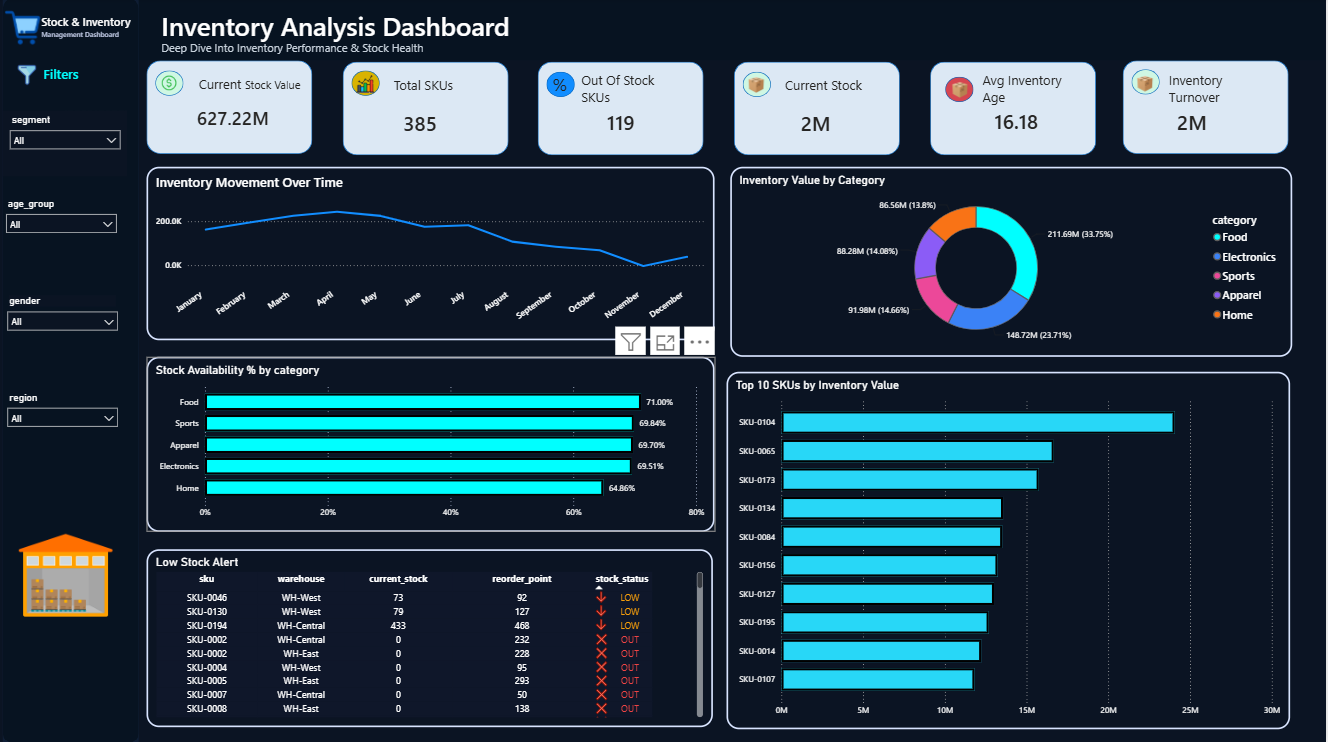

Layout of this report page (visuals, bound fields, positions):
{"tool":"powerbi","page":{"name":"Inventory analysis Dashboard","canvas":[1920,1080],"ordinal":1},"visuals":[{"type":"group","id":"g1","title":"Group 2","box":[195,0,1725,94],"z":0},{"type":"shape","box":[214.3,90.9,240,135.3],"z":0,"group":"g2"},{"type":"shape","box":[1627.4,90.9,240,135.3],"z":0,"group":"g6"},{"type":"shape","box":[497.5,92,240,135.3],"z":0,"group":"g3"},{"type":"shape","box":[780.5,92,240,135.3],"z":0,"group":"g4"},{"type":"shape","box":[1063.5,92,240,135.3],"z":0,"group":"g7"},{"type":"shape","box":[1348.3,93.1,240,135.3],"z":0,"group":"g5"},{"type":"shape","box":[5.3,0,196.8,1080],"z":1000},{"type":"shape","box":[195,0,1725,90],"z":1000,"group":"g1"},{"type":"actionButton","box":[1,11.2,65,65.8],"z":2000},{"type":"textbox","box":[56.5,18.1,155,45],"z":3000},{"type":"textbox","box":[55.8,35,139.2,55],"z":4000},{"type":"slicer","fields":{"Values":["dim_customers.age_group"]},"box":[0,285,180,96.2],"z":5000},{"type":"textbox","box":[229.5,10,543.6,71.8],"z":6000,"group":"g1"},{"type":"slicer","fields":{"Values":["dim_customers.segment"]},"box":[5,162.5,180,95],"z":6000},{"type":"textbox","box":[230,56,420,38],"z":7000,"group":"g1"},{"type":"slicer","fields":{"Values":["dim_customers.gender"]},"box":[1.2,425,180,95],"z":7000},{"type":"slicer","fields":{"Values":["dim_customers.region"]},"box":[1.2,565,180,95],"z":8000},{"type":"textbox","box":[41.2,92.5,103.8,45],"z":9000},{"type":"shape","box":[1639.7,104,40.9,36.6],"z":9000,"group":"g6"},{"type":"shape","box":[226.6,105.1,40.9,36.6],"z":9000,"group":"g2"},{"type":"shape","box":[509.8,105.1,40.9,36.6],"z":9000,"group":"g3"},{"type":"shape","box":[792.8,106.2,40.9,36.6],"z":9000,"group":"g4"},{"type":"shape","box":[1075.8,106.2,40.9,36.6],"z":9000,"group":"g7"},{"type":"shape","box":[1370.9,114.6,40.9,36.6],"z":9000,"group":"g5"},{"type":"image","box":[0,87.5,81.2,48.8],"z":10000},{"type":"image","box":[1647.9,108.5,25.5,28.6],"z":10000,"group":"g6"},{"type":"image","box":[234.8,109.5,25.5,28.6],"z":10000,"group":"g2"},{"type":"image","box":[518,109.6,25.5,28.6],"z":10000,"group":"g3"},{"type":"image","box":[1084,110.6,25.5,28.6],"z":10000,"group":"g7"},{"type":"image","box":[1379.1,119.1,25.5,28.6],"z":10000,"group":"g5"},{"type":"textbox","box":[837.8,100.7,149.3,73.6],"z":11000,"group":"g4"},{"type":"textbox","box":[1419.2,101.6,149.3,80.1],"z":11000,"group":"g5"},{"type":"textbox","box":[1689.2,102,145,62.8],"z":11000,"group":"g6"},{"type":"textbox","box":[566.2,107.8,142.7,42],"z":11000,"group":"g3"},{"type":"textbox","box":[285.2,107.9,160,42.2],"z":11000,"group":"g2"},{"type":"textbox","box":[1132.2,108.8,142.7,42],"z":11000,"group":"g7"},{"type":"image","box":[14,748,164,176],"z":11000},{"type":"group","id":"g2","title":"Group 1","box":[214.3,90.9,240.2,136.3],"z":12000},{"type":"cardVisual","fields":{"Data":["Measures (2).Inventory Value"]},"box":[270,135.8,168.8,71.4],"z":12000,"group":"g2"},{"type":"cardVisual","fields":{"Data":["Measures (2).Current Stock"]},"box":[1142.4,137.5,151.5,82.2],"z":12000,"group":"g7"},{"type":"cardVisual","fields":{"Data":["Measures (2).Products Count"]},"box":[567.8,144,140.7,67.1],"z":12000,"group":"g3"},{"type":"cardVisual","fields":{"Data":["Measures (2).Average Inventory Days"]},"box":[1423.5,147.1,149.3,60.6],"z":12000,"group":"g5"},{"type":"cardVisual","fields":{"Data":["Measures (2).Current Stock"]},"box":[1689.2,147.4,164.5,62.8],"z":12000,"group":"g6"},{"type":"cardVisual","fields":{"Data":["Measures (2).Current Stock"]},"box":[801.2,121.2,190,68.8],"z":13000},{"type":"group","id":"g3","title":"Group 1","box":[497.5,92,240,135.3],"z":14000},{"type":"group","id":"g4","title":"Group 1","box":[780.5,92,240,135.3],"z":15000},{"type":"textbox","box":[801.5,108,63,111],"z":15008,"group":"g4"},{"type":"group","id":"g5","title":"Group 1","box":[1348.3,93.1,240,135.3],"z":16000},{"type":"cardVisual","fields":{"Data":["Measures (2).Out of Stock SKUs"]},"box":[863.5,142.8,145,69.3],"z":17000},{"type":"group","id":"g6","title":"Group 1","box":[1627.4,90.9,240,135.3],"z":18000},{"type":"lineChart","title":"Inventory Movement Over Time","fields":{"Category":["dim_date.month_name"],"Y":["Sum(fact_inventory_movements.quantity)"]},"box":[214.3,244.5,822.4,251],"z":19000},{"type":"donutChart","title":"Inventory Value by Category","fields":{"Category":["dim_products.category"],"Y":["Measures (2).Inventory Value"]},"box":[1058.3,244.5,813.7,274.8],"z":20000},{"type":"clusteredBarChart","fields":{"Category":["dim_products.category"],"Y":["Measures (2).Stock Availability %"]},"box":[214.3,519.4,822.4,253.2],"z":21000},{"type":"clusteredBarChart","title":"Top 10 SKUs by Inventory Value","fields":{"Category":["dim_products.sku"],"Y":["Measures (2).Inventory Value"]},"box":[1053.9,541,815.9,517.2],"z":22000},{"type":"tableEx","title":"Low Stock Alert","fields":{"Values":["fact_inventory.sku","fact_inventory.warehouse","Sum(fact_inventory.current_stock)","Sum(fact_inventory.reorder_point)","fact_inventory.stock_status"]},"box":[214.3,798.6,820.2,257.5],"z":23000},{"type":"group","id":"g7","title":"Group 1","box":[1063.5,92,240,135.3],"z":24000}]}

Visuals, with their boxes in screenshot pixels (x1, y1, x2, y2), scaled from the page's 1920x1080 canvas onto the 1328x742 screenshot:
"Group 2" group: (left=135, top=0, right=1327, bottom=65)
shape: (left=148, top=62, right=314, bottom=155)
shape: (left=1126, top=62, right=1292, bottom=155)
shape: (left=344, top=63, right=510, bottom=156)
shape: (left=540, top=63, right=706, bottom=156)
shape: (left=736, top=63, right=902, bottom=156)
shape: (left=933, top=64, right=1099, bottom=157)
shape: (left=4, top=0, right=140, bottom=741)
shape: (left=135, top=0, right=1327, bottom=62)
actionButton: (left=1, top=8, right=46, bottom=53)
textbox: (left=39, top=12, right=146, bottom=43)
textbox: (left=39, top=24, right=135, bottom=62)
slicer - dim_customers.age_group: (left=0, top=196, right=124, bottom=262)
textbox: (left=159, top=7, right=535, bottom=56)
slicer - dim_customers.segment: (left=3, top=112, right=128, bottom=177)
textbox: (left=159, top=38, right=450, bottom=65)
slicer - dim_customers.gender: (left=1, top=292, right=125, bottom=357)
slicer - dim_customers.region: (left=1, top=388, right=125, bottom=453)
textbox: (left=28, top=64, right=100, bottom=94)
shape: (left=1134, top=71, right=1162, bottom=97)
shape: (left=157, top=72, right=185, bottom=97)
shape: (left=353, top=72, right=381, bottom=97)
shape: (left=548, top=73, right=577, bottom=98)
shape: (left=744, top=73, right=772, bottom=98)
shape: (left=948, top=79, right=976, bottom=104)
image: (left=0, top=60, right=56, bottom=94)
image: (left=1140, top=75, right=1157, bottom=94)
image: (left=162, top=75, right=180, bottom=95)
image: (left=358, top=75, right=376, bottom=95)
image: (left=750, top=76, right=767, bottom=96)
image: (left=954, top=82, right=972, bottom=101)
textbox: (left=579, top=69, right=683, bottom=120)
textbox: (left=982, top=70, right=1085, bottom=125)
textbox: (left=1168, top=70, right=1269, bottom=113)
textbox: (left=392, top=74, right=490, bottom=103)
textbox: (left=197, top=74, right=308, bottom=103)
textbox: (left=783, top=75, right=882, bottom=104)
image: (left=10, top=514, right=123, bottom=635)
"Group 1" group: (left=148, top=62, right=314, bottom=156)
cardVisual - Measures (2).Inventory Value: (left=187, top=93, right=304, bottom=142)
cardVisual - Measures (2).Current Stock: (left=790, top=94, right=895, bottom=151)
cardVisual - Measures (2).Products Count: (left=393, top=99, right=490, bottom=145)
cardVisual - Measures (2).Average Inventory Days: (left=985, top=101, right=1088, bottom=143)
cardVisual - Measures (2).Current Stock: (left=1168, top=101, right=1282, bottom=144)
cardVisual - Measures (2).Current Stock: (left=554, top=83, right=686, bottom=131)
"Group 1" group: (left=344, top=63, right=510, bottom=156)
"Group 1" group: (left=540, top=63, right=706, bottom=156)
textbox: (left=554, top=74, right=598, bottom=150)
"Group 1" group: (left=933, top=64, right=1099, bottom=157)
cardVisual - Measures (2).Out of Stock SKUs: (left=597, top=98, right=698, bottom=146)
"Group 1" group: (left=1126, top=62, right=1292, bottom=155)
"Inventory Movement Over Time" lineChart: (left=148, top=168, right=717, bottom=340)
"Inventory Value by Category" donutChart: (left=732, top=168, right=1295, bottom=357)
clusteredBarChart - dim_products.category x Measures (2).Stock Availability %: (left=148, top=357, right=717, bottom=531)
"Top 10 SKUs by Inventory Value" clusteredBarChart: (left=729, top=372, right=1293, bottom=727)
"Low Stock Alert" tableEx: (left=148, top=549, right=716, bottom=726)
"Group 1" group: (left=736, top=63, right=902, bottom=156)
